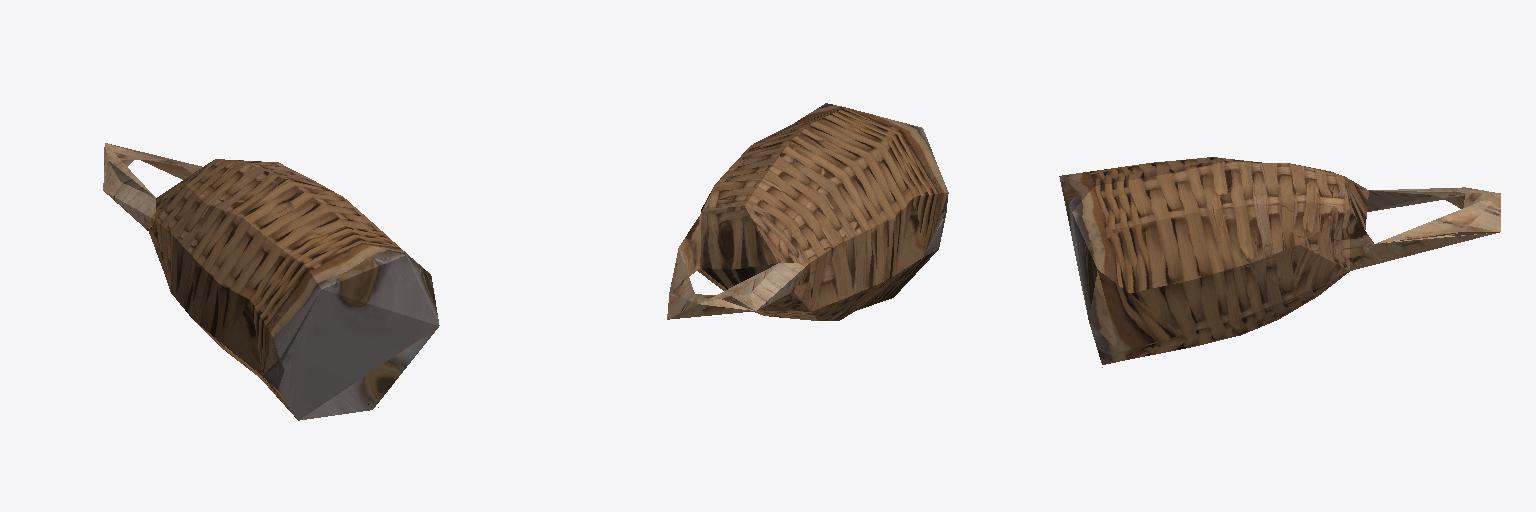
3 views of the same model, side by side, from view 1: azimuth 30°, elevation 25°; view 2: azimuth 150°, elevation 25°; view 3: azimuth 270°, elevation 25° (orthographic).
Parts seen in each view (by area): view 1: model; view 2: model; view 3: model.
Boxes of the visible parts, <box> form: model: <box>103,143,439,420</box>; model: <box>667,103,948,320</box>; model: <box>1059,157,1500,367</box>.
Bounding box in the file's own units: 2.12 × 2.2 × 4.6.
Materials: 1 (1 with a texture image).